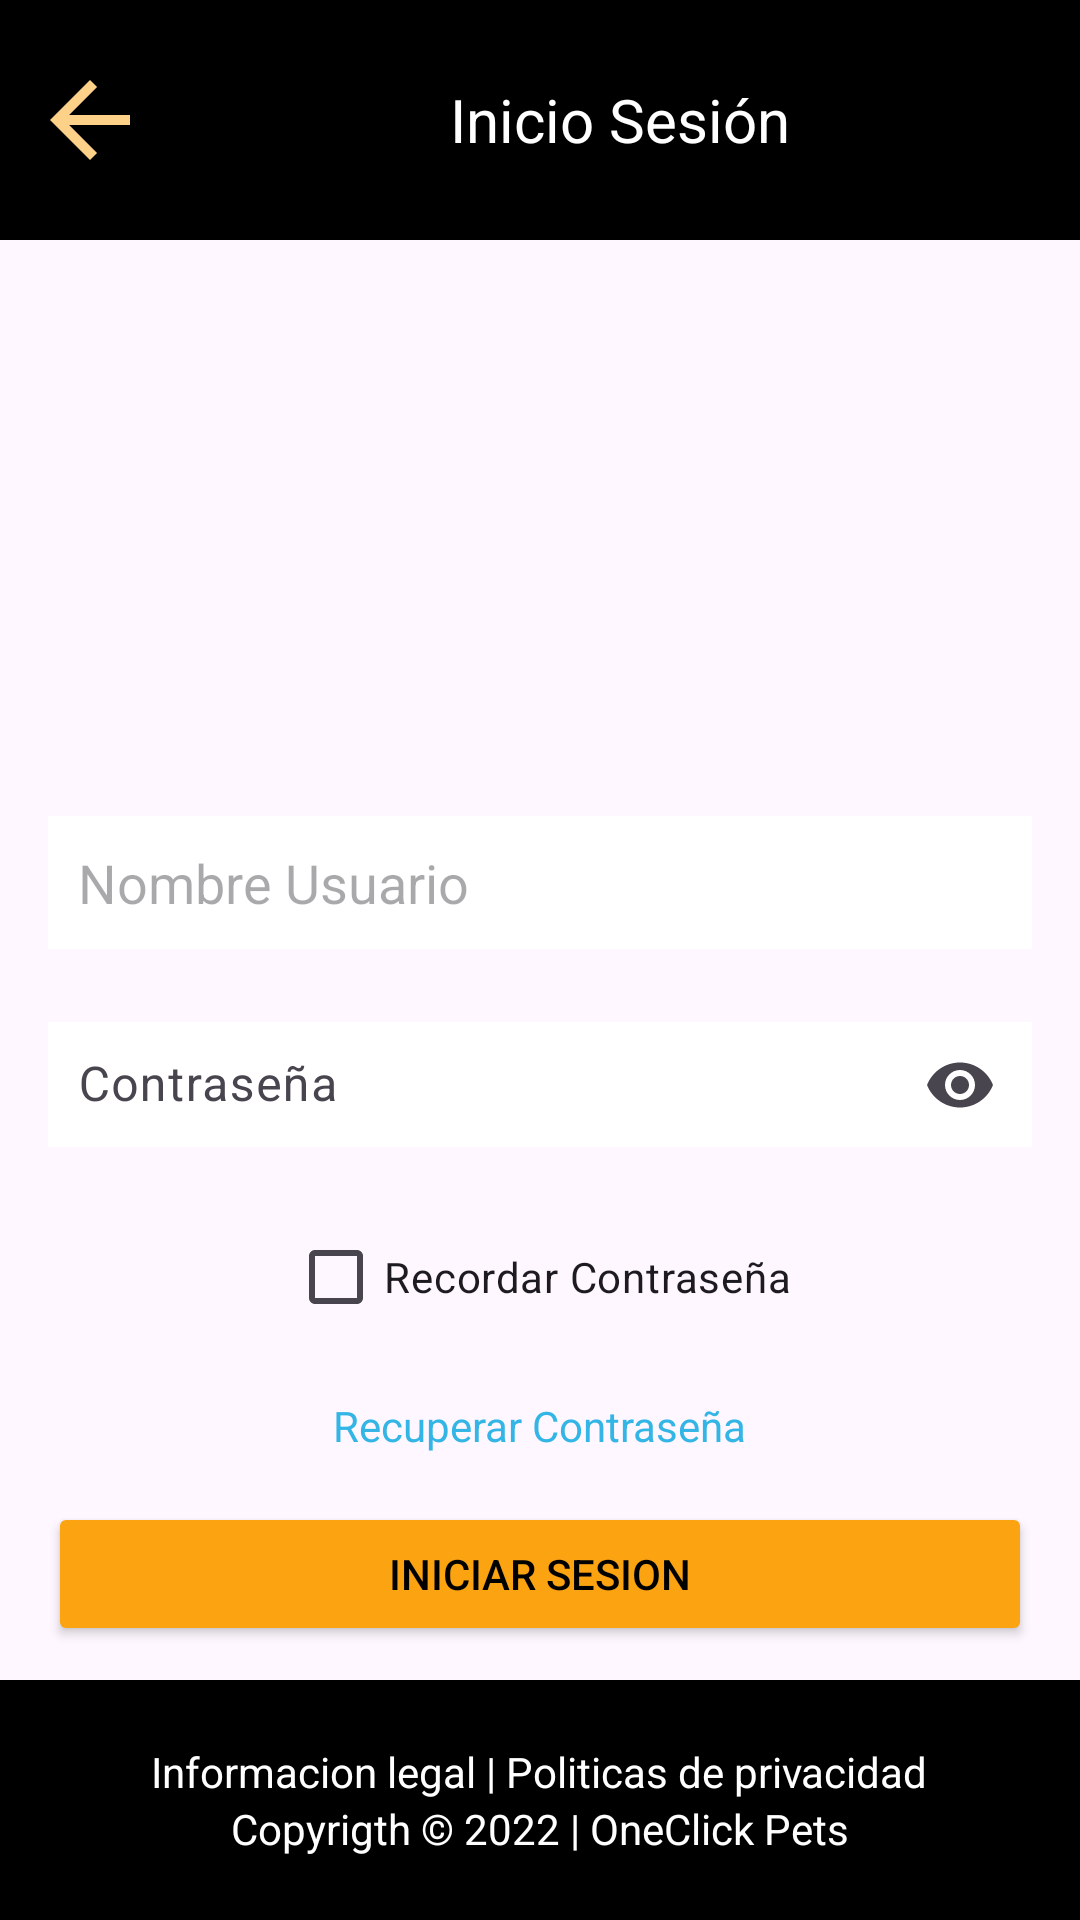

Icons on this 1080 × 1920 Android screen, each with its box as (x1, y1, x2, y2):
atras: (50, 80, 130, 160)
